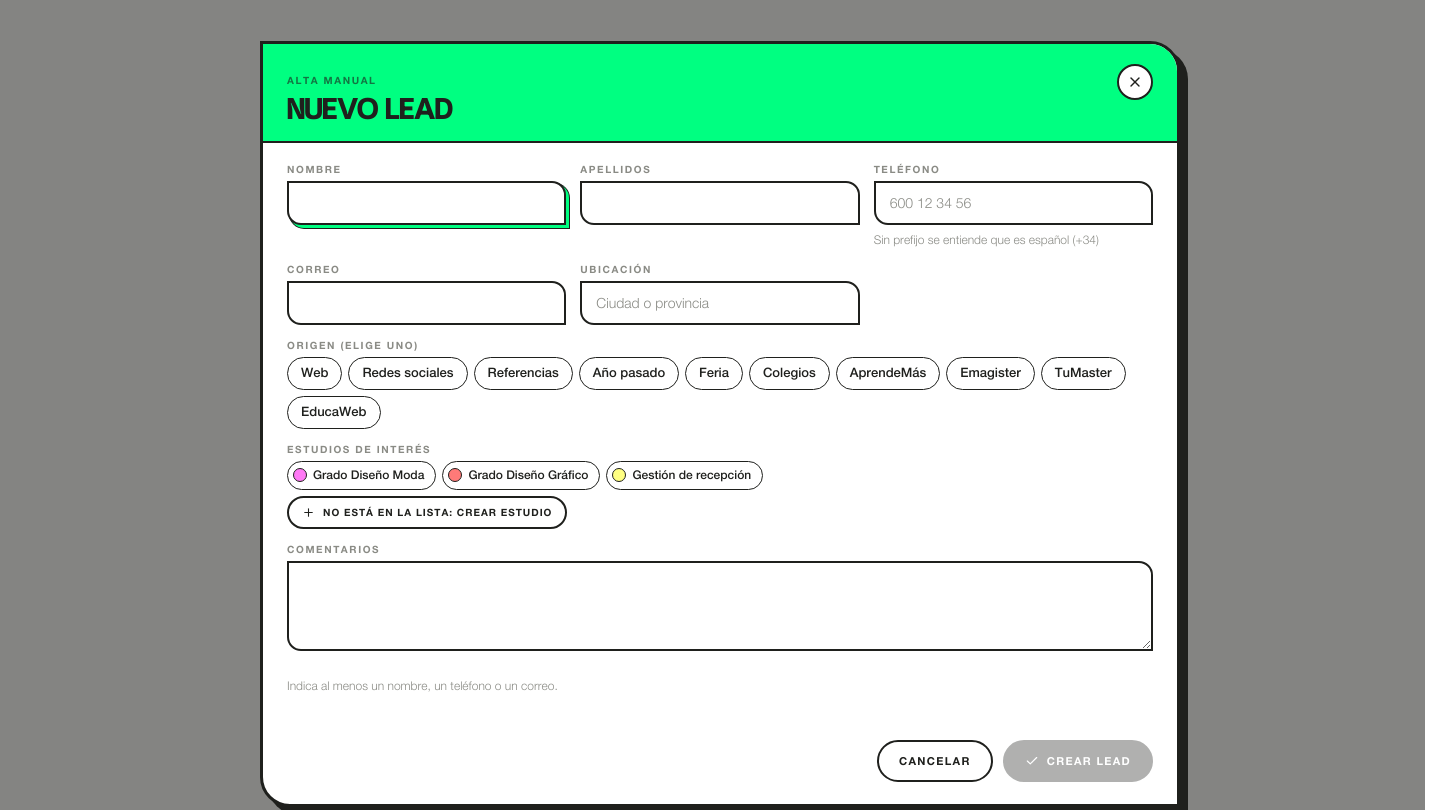
it: Alta de un lead › no deja crearlo sin origen
Type "Eva" into the field labelled "Nombre".
click(427, 203); type("Eva")  # box [287,181,566,225]
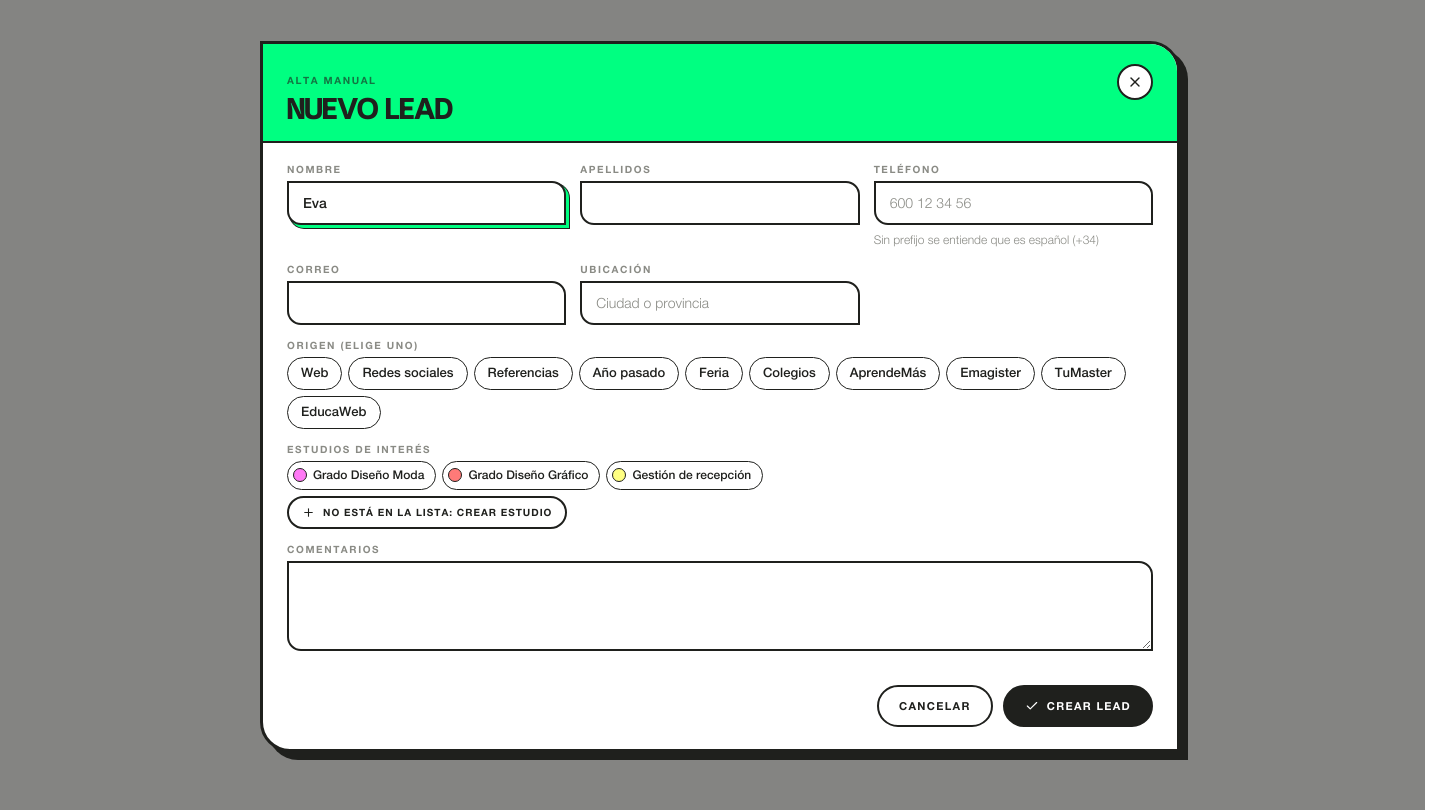
Click the button "Crear lead".
click(1078, 706)  # box [1003,685,1153,726]
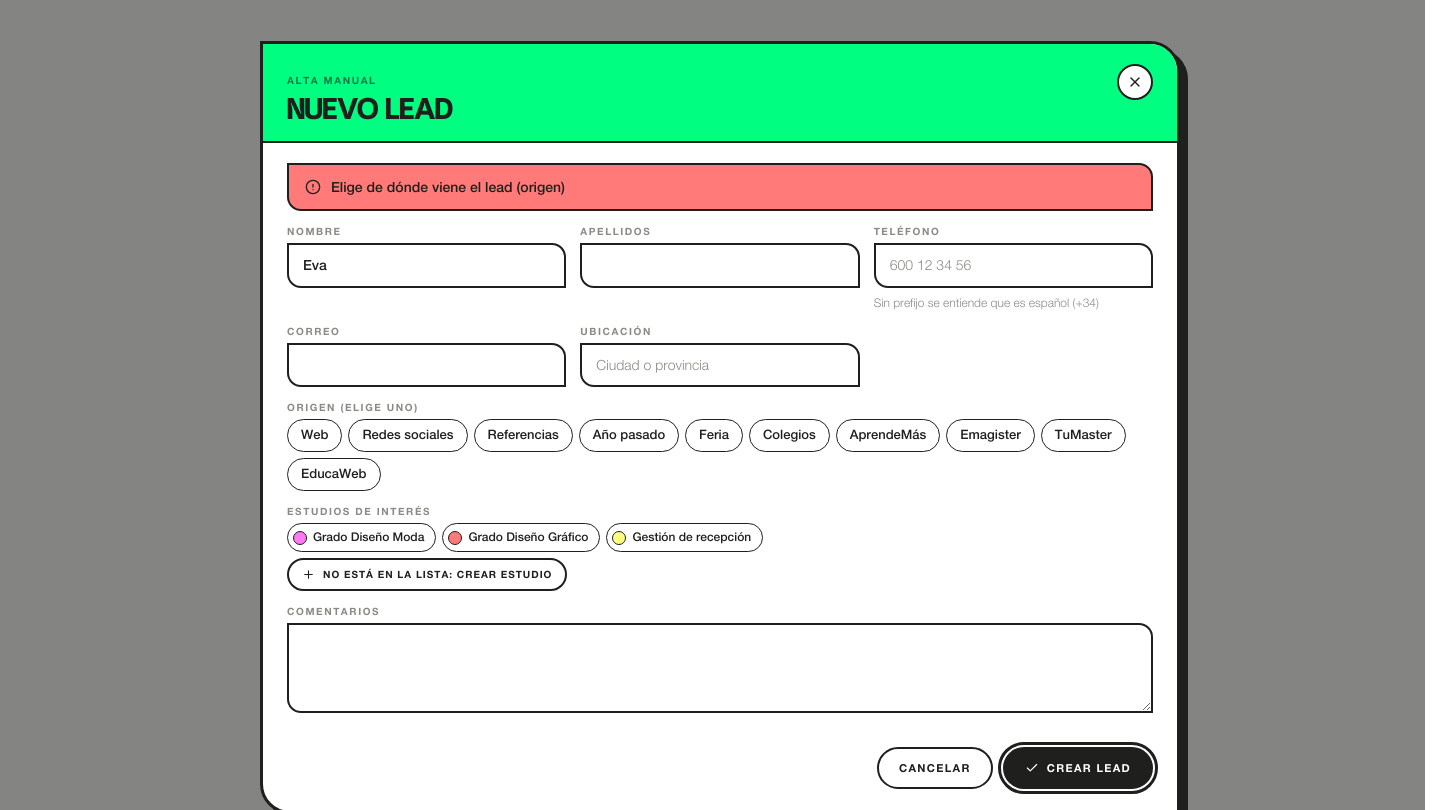
Expected: the message shows "Elige de dónde viene el lead", [331,179,565,195]
Al elegir el origen desaparece el aviso.
Click the radio button labelled "Web".
click(315, 436)  # box [287,419,342,452]
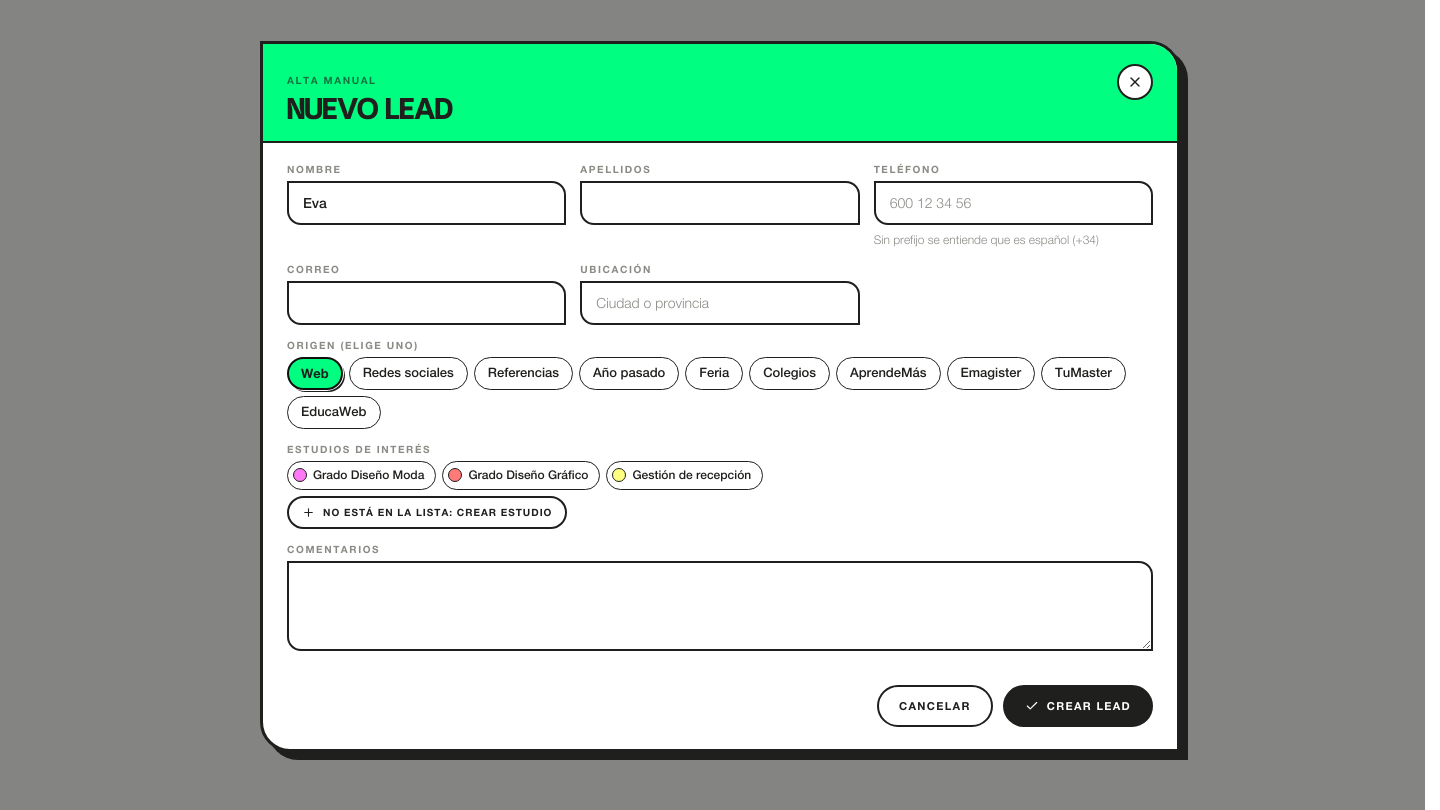
Expected: the message "Elige de dónde viene el lead (origen)" is gone
